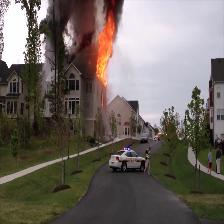fire: (98, 14, 116, 80)
smoke: (41, 0, 92, 52), (102, 0, 122, 12)
